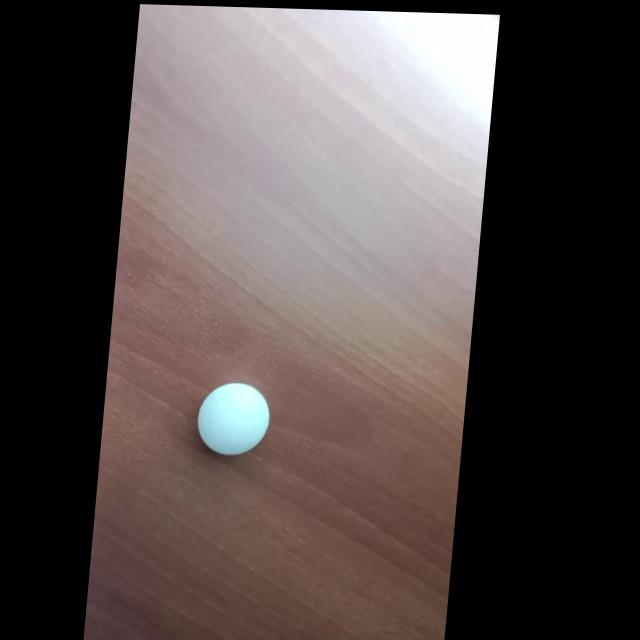white ball: (194, 381, 273, 457)
